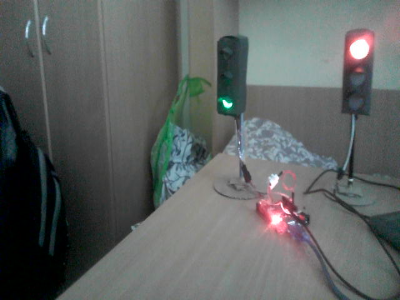trafficlight_green: (217, 38, 239, 115)
trafficlight_red: (342, 32, 374, 112)
